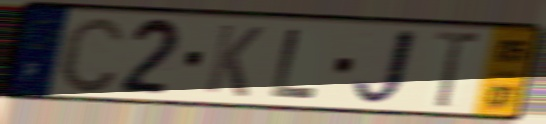2: (114, 13, 188, 102)
C: (56, 13, 128, 96)
J: (349, 25, 422, 110)
K: (202, 21, 267, 100)
L: (267, 26, 322, 101)
T: (430, 28, 485, 111)
